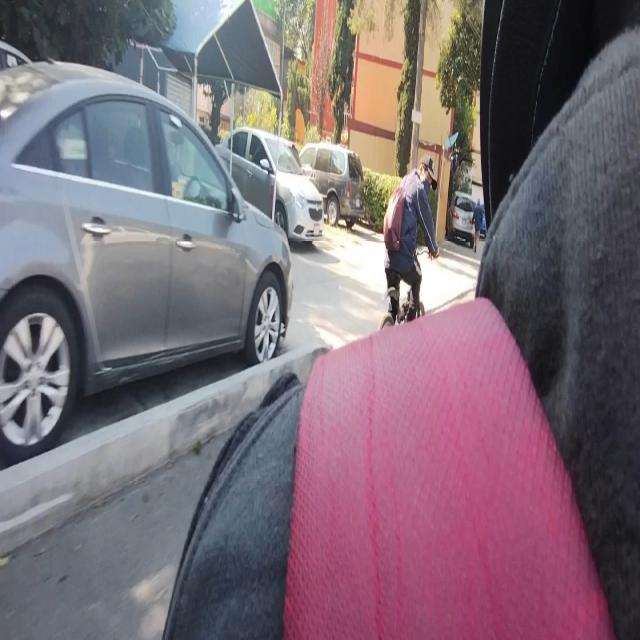adult: (385, 153, 439, 324)
